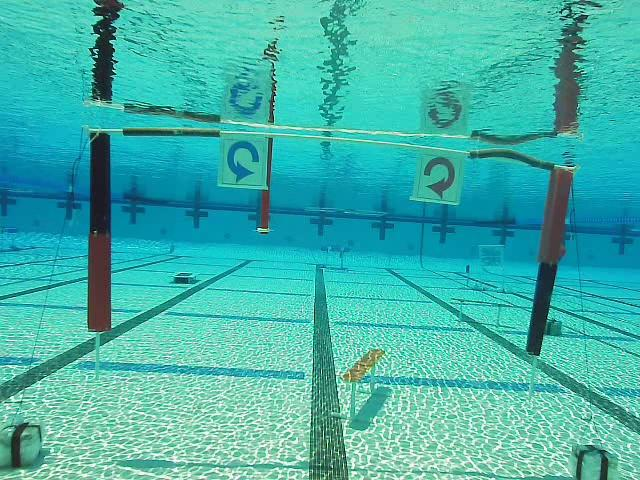gate: (87, 127, 575, 357)
gate_blue: (220, 136, 265, 188)
gate_leg_l: (87, 128, 112, 333)
gate_leg_r: (525, 165, 575, 357)
gate_red: (415, 154, 463, 205)
table: (319, 244, 350, 271)
torpedo: (478, 244, 506, 269)
